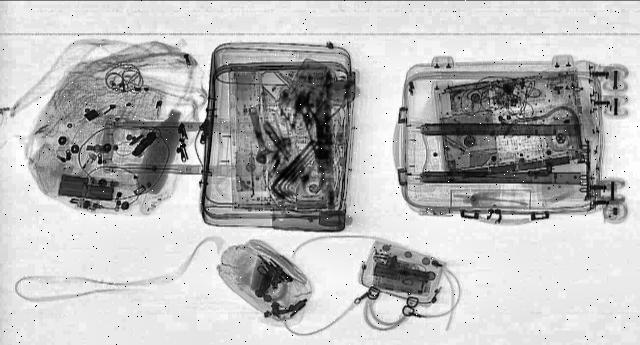Wrench: (240, 104, 278, 164)
